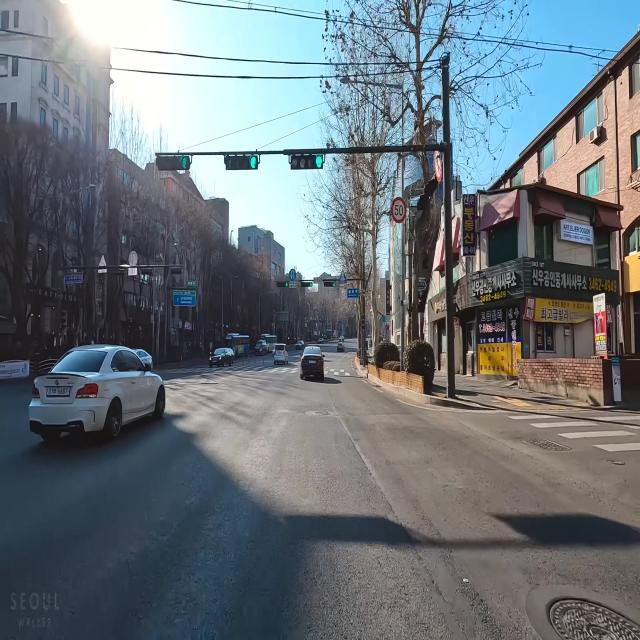Green Light: (248, 154, 258, 170), (314, 154, 323, 169), (179, 156, 187, 170), (333, 282, 336, 287), (286, 282, 288, 288), (310, 282, 312, 287)
